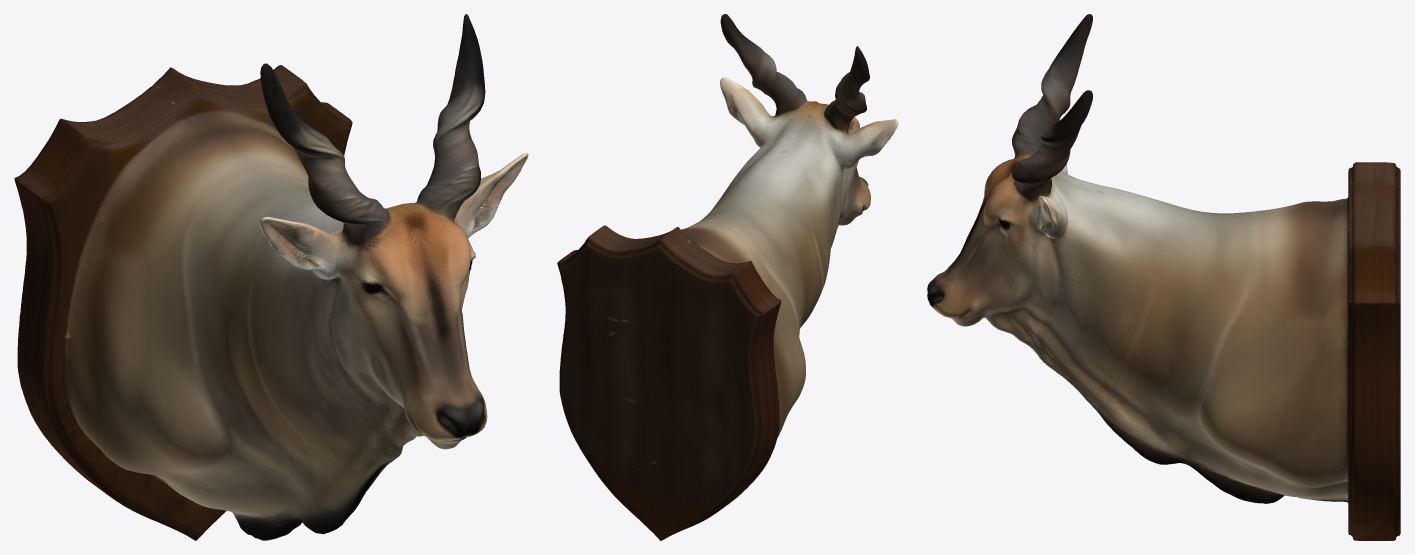
Rendered from model-compressed-1773691041464-znhmdbc65xo.glb.
3 renders of one model, left to right at view 1: azimuth 30°, elevation 25°; view 2: azimuth 150°, elevation 25°; view 3: azimuth 270°, elevation 25°, orthographic. The views are drawn at different scales.
Bounding box in the file's own units: 1 × 1.91 × 1.68.
Materials: 1 (1 with a texture image).
